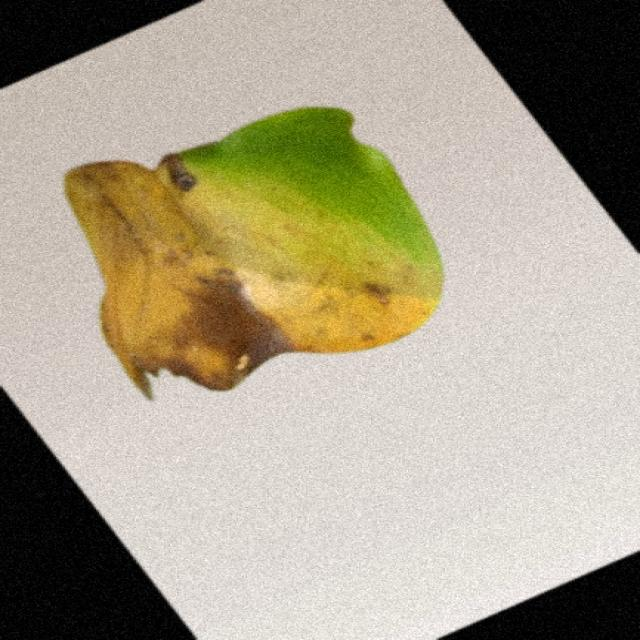daun berpenyakit kuning: (65, 108, 443, 399)
